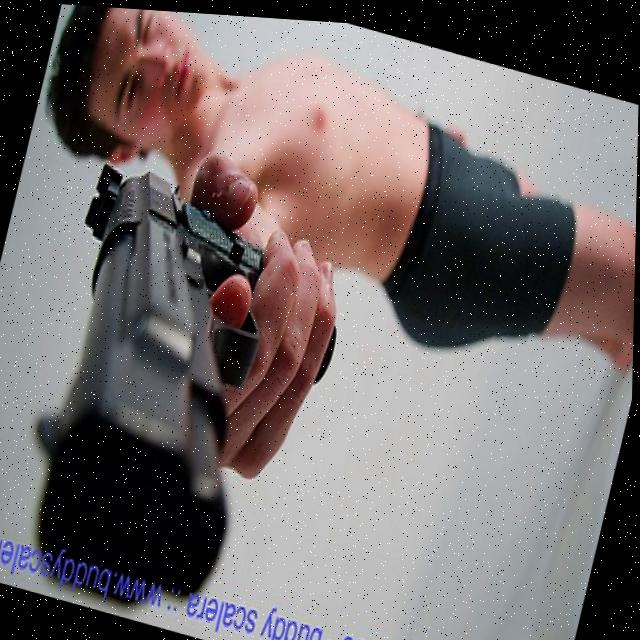pistol: (0, 145, 305, 638)
